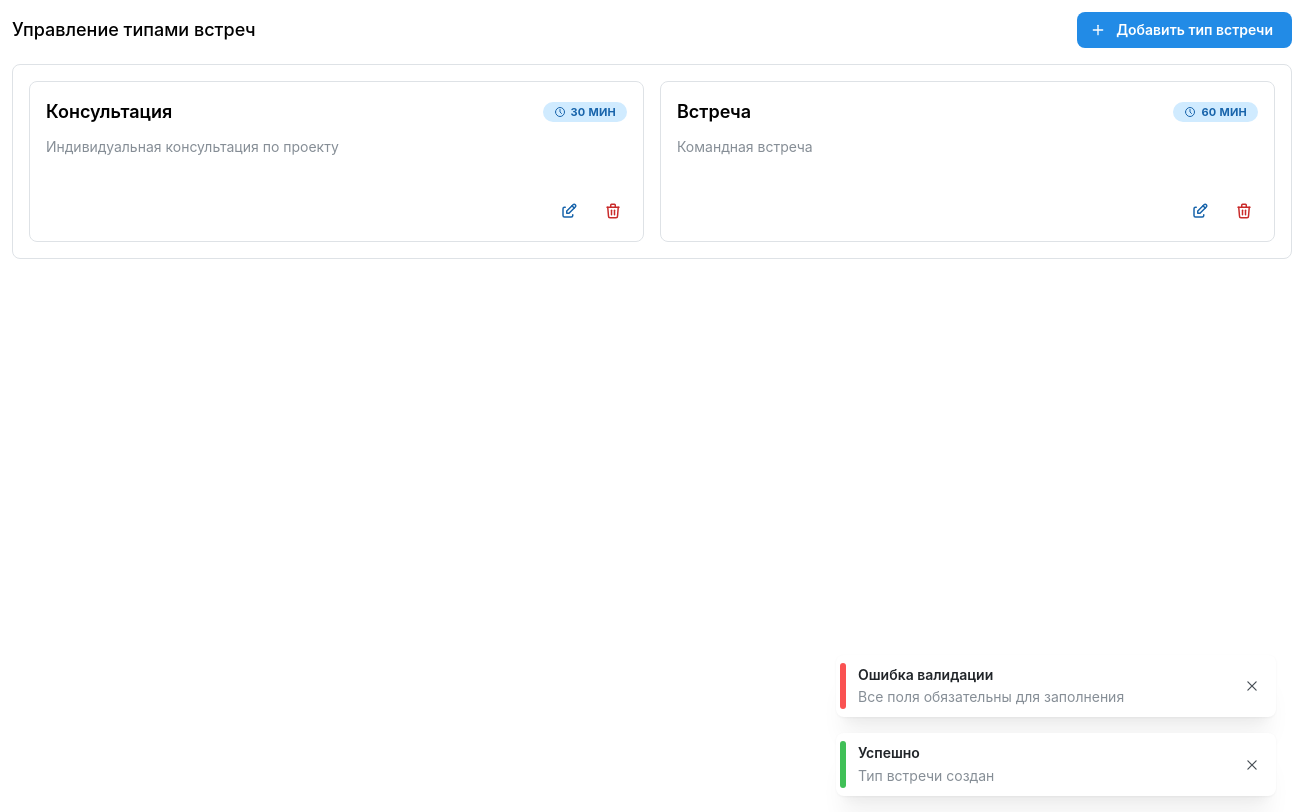
Test: EventTypeManagement › deletes an event type after confirmation
Expected: the text "Консультация" is shown, [46, 98, 172, 127]
Step 1. Click the button named "Удалить тип встречи Консультация" → (613, 211), box [599, 197, 627, 225]
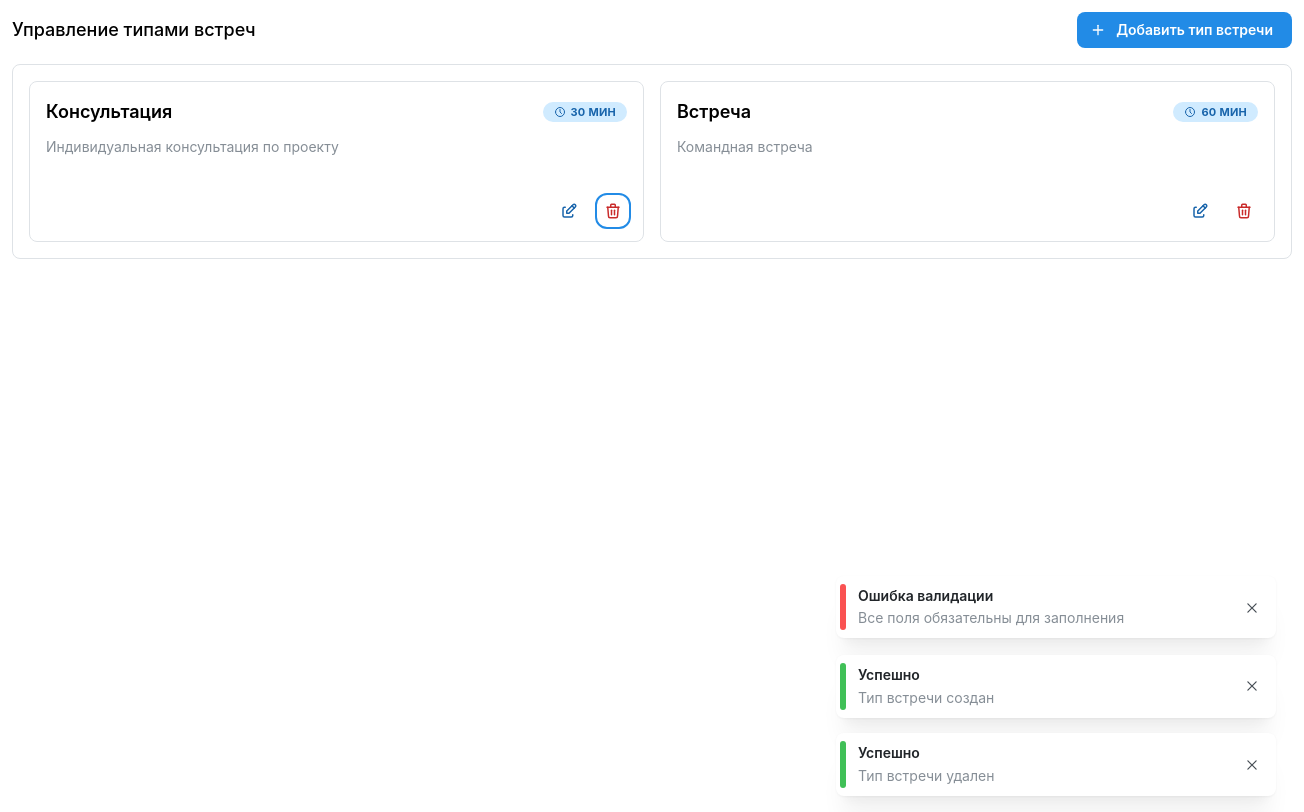
Result: the text "Тип встречи удален" is shown at [858, 767, 994, 784]
